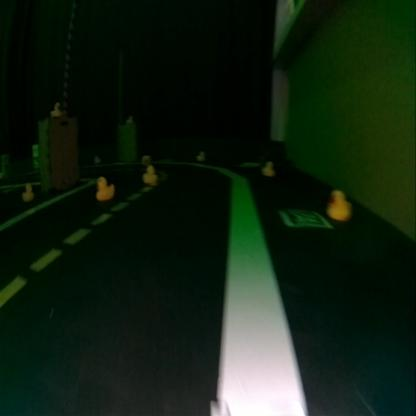Duckie: (328, 192, 352, 219), (96, 176, 114, 198), (142, 165, 157, 184), (21, 183, 34, 198), (262, 161, 274, 174), (50, 103, 61, 116), (196, 150, 204, 160), (126, 115, 132, 123), (94, 155, 100, 161)
QR code: (279, 207, 330, 226)
